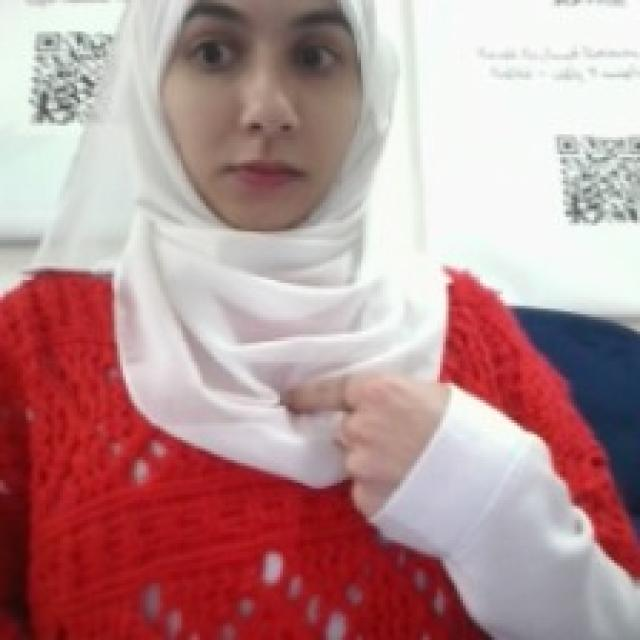me: (273, 362, 456, 530)
